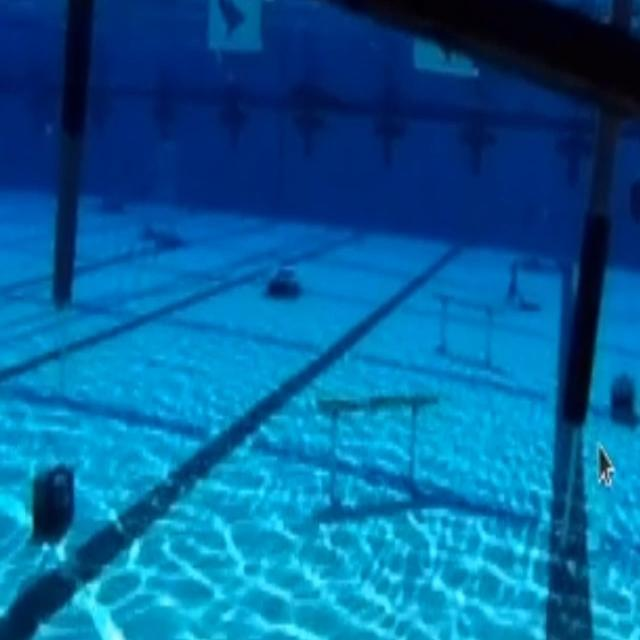Path: (304, 364, 443, 512)
